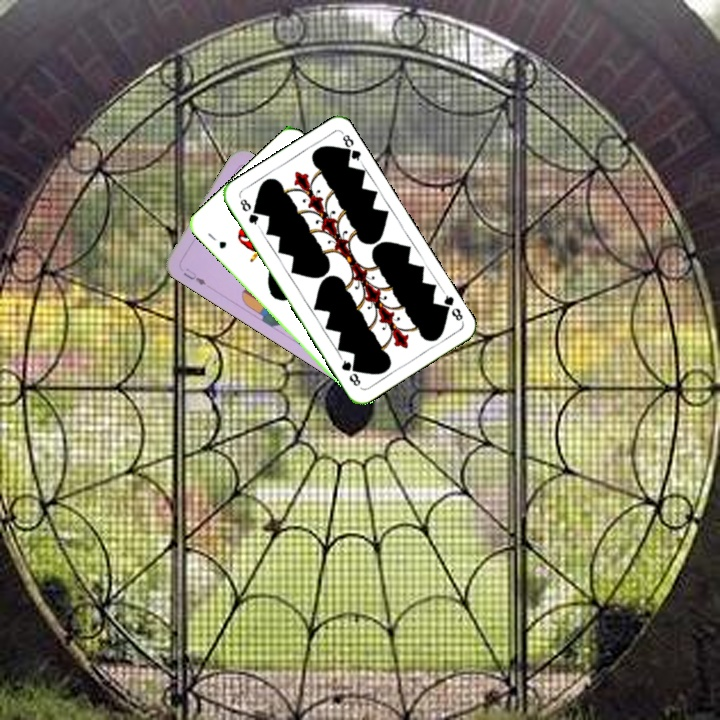EU: (179, 264, 209, 288)
G8: (437, 288, 466, 324), (236, 195, 262, 230)
GU: (203, 229, 229, 251)
